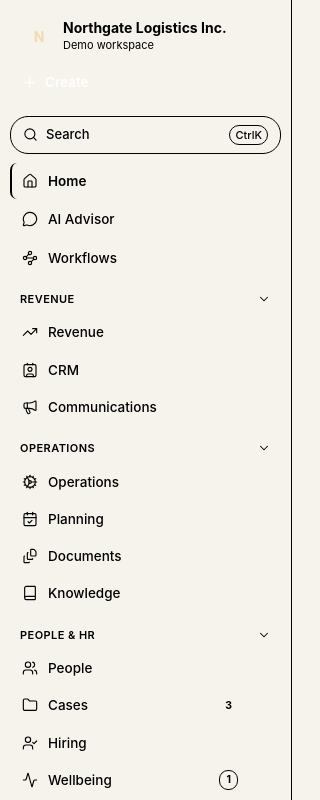
Test case: Sidebar › expands and collapses People & HR and Operations sections
Click the button "People & HR".
click(58, 635)  # box [10,612,281,649]
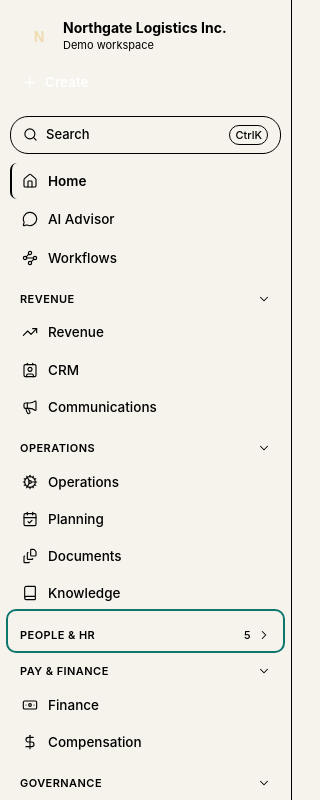
Now the button "People & HR 5" is collapsed
Click the button "People & HR 5".
click(58, 635)  # box [10,612,281,649]
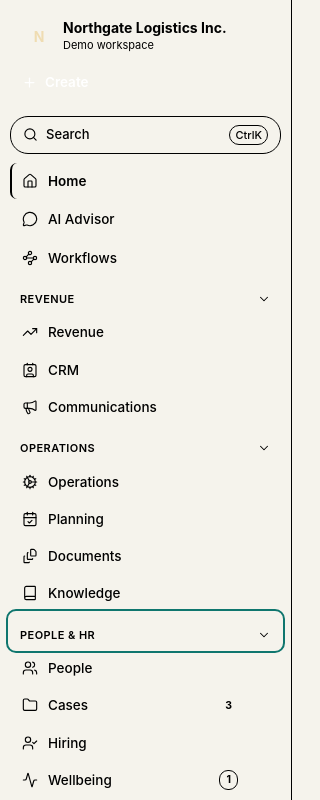
Now the button "People & HR" is expanded, box [10,612,281,649]
